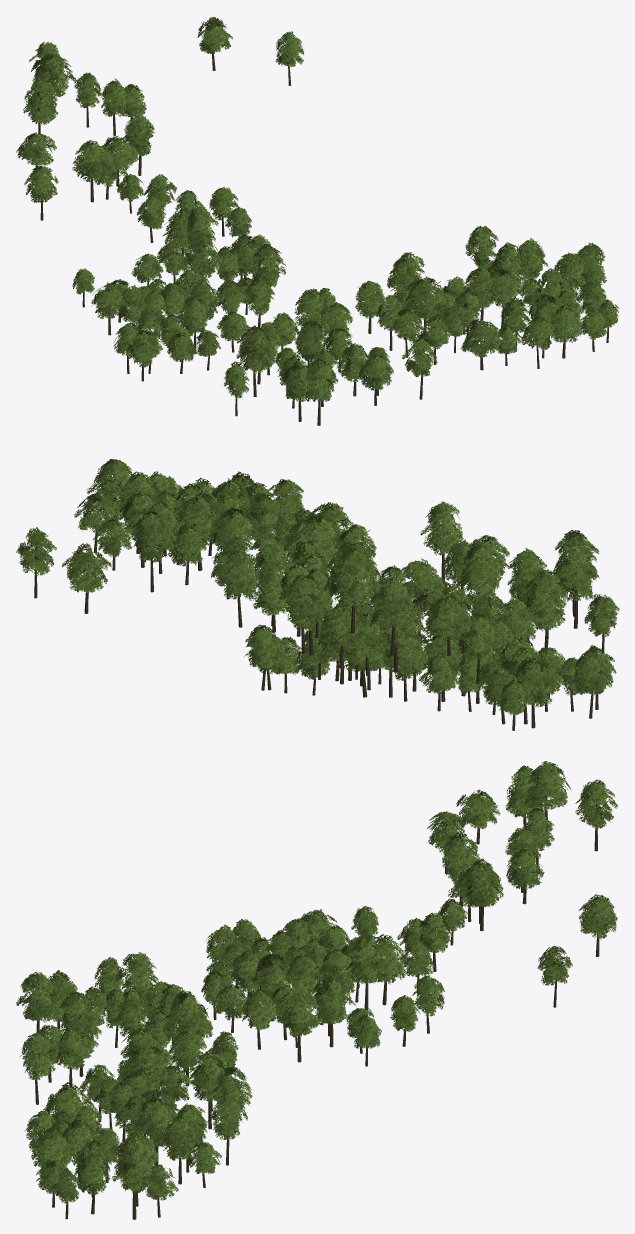
File: TRB8-FOREST-CHUNK-2-2.glb
3 views of the same model, one above another, from view 1: azimuth 30°, elevation 25°; view 2: azimuth 150°, elevation 25°; view 3: azimuth 270°, elevation 25° (orthographic). The views are drawn at different scales.
Visible parts, largest first — view 1: TRB8-FOREST-CHUNK-2-2; view 2: TRB8-FOREST-CHUNK-2-2; view 3: TRB8-FOREST-CHUNK-2-2.
Part boxes in pixels (<box>): TRB8-FOREST-CHUNK-2-2: <box>16,17,619,425</box>; TRB8-FOREST-CHUNK-2-2: <box>16,459,619,730</box>; TRB8-FOREST-CHUNK-2-2: <box>16,761,617,1219</box>.
Bounding box in the file's own units: 41.25 × 19.53 × 41.34.
Materials: 2 (1 with a texture image).
